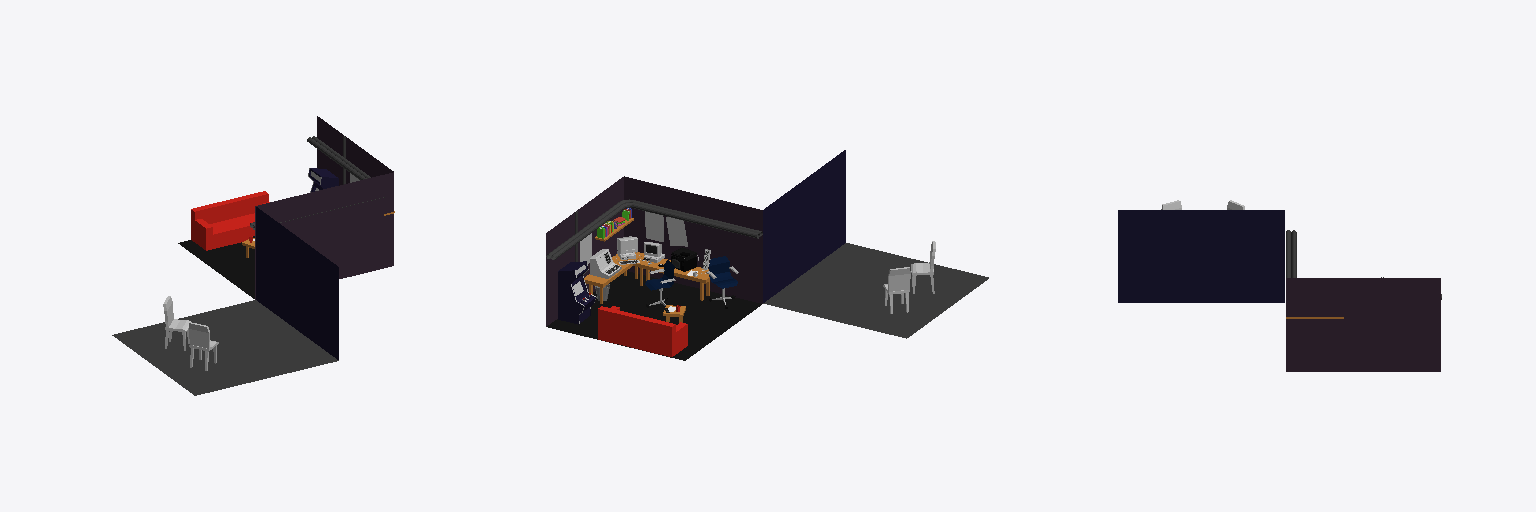
The model's file is Arcade2.obj.
3 views of the same model, side by side, from view 1: azimuth 30°, elevation 25°; view 2: azimuth 150°, elevation 25°; view 3: azimuth 270°, elevation 25° (orthographic).
Visible parts, largest first — view 1: Plane.005, Cube_Cube.001, Cube.015_Cube.002, Cube.001_Cube.009, Cube.002_Cube.011; view 2: Plane.005, Cube_Cube.001, Cube.015_Cube.002, Plane_Plane.134, Cylinder.001, Cylinder.005, Cube.002_Cube.011, Table2_Plane.009, Cylinder, Table1_Plane, Cylinder.006, Plane.016_Plane.147; view 3: Plane.005, Cube_Cube.001.
Boxes of the visible parts, x1,y1,x2,y2 form: Plane.005: [112, 207, 338, 395]; Cube_Cube.001: [178, 116, 393, 299]; Cube.015_Cube.002: [191, 191, 269, 250]; Cube.001_Cube.009: [189, 322, 218, 370]; Cube.002_Cube.011: [163, 296, 190, 350]; Plane.005: [763, 150, 988, 338]; Cube_Cube.001: [546, 176, 762, 360]; Cube.015_Cube.002: [598, 306, 687, 356]; Plane_Plane.134: [558, 261, 596, 324]; Cylinder.001: [551, 203, 759, 259]; Cylinder.005: [706, 256, 738, 308]; Cube.002_Cube.011: [883, 267, 910, 313]; Table2_Plane.009: [633, 255, 709, 300]; Cylinder: [546, 199, 762, 258]; Table1_Plane: [584, 252, 643, 303]; Cylinder.006: [645, 260, 675, 307]; Plane.016_Plane.147: [590, 249, 621, 278]; Plane.005: [1118, 210, 1284, 302]; Cube_Cube.001: [1286, 278, 1440, 371].
Bounding box in the file's own units: 16.29 × 5.22 × 16.09.